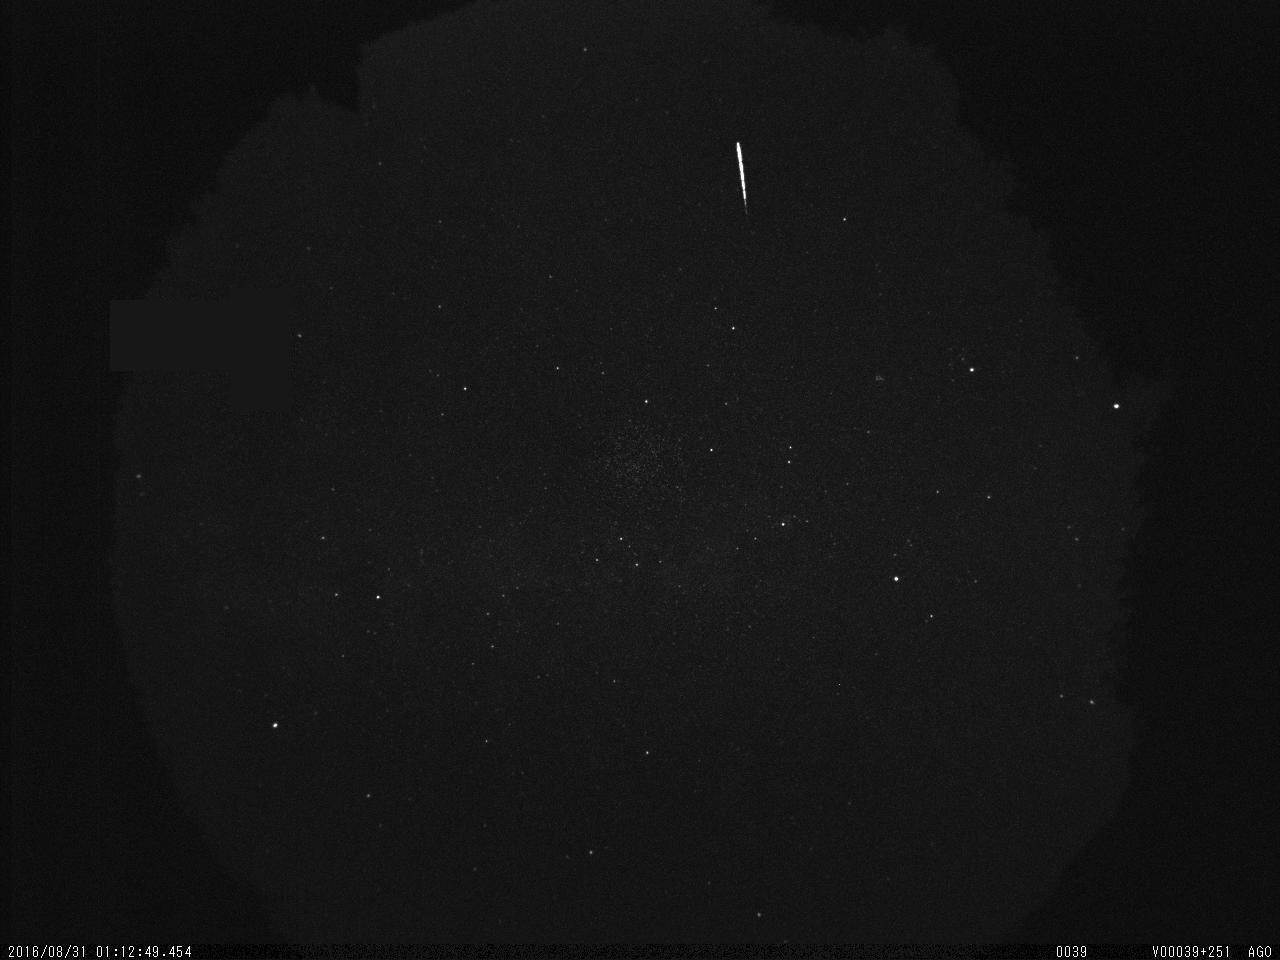meteor: (705, 108, 794, 241)
